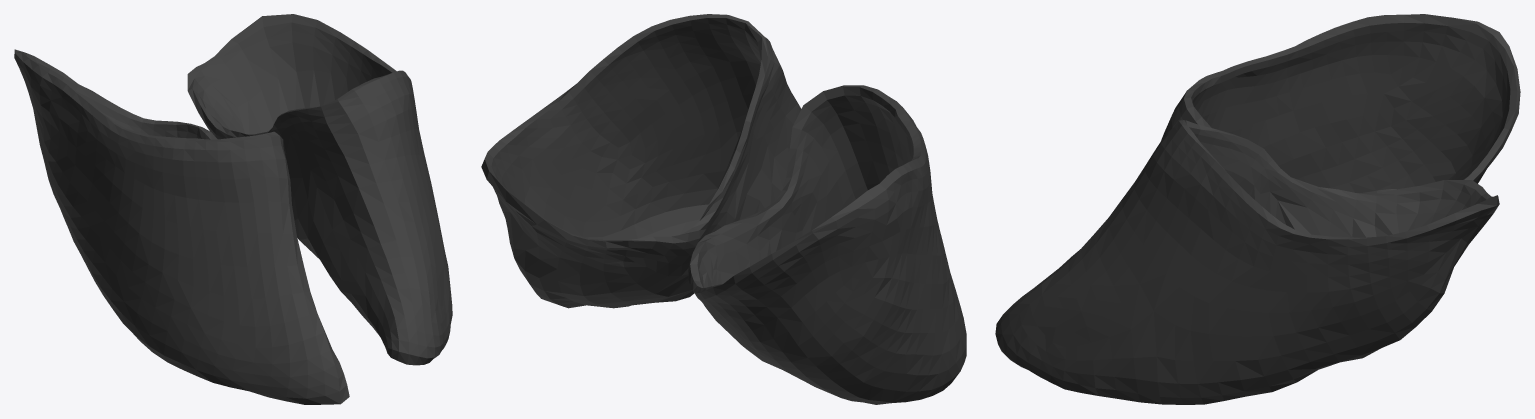
File: Hooves.glb
3 views of the same model, side by side, from view 1: azimuth 30°, elevation 25°; view 2: azimuth 150°, elevation 25°; view 3: azimuth 270°, elevation 25° (orthographic). The views are drawn at different scales.
Parts seen in each view (by area): view 1: Hooves; view 2: Hooves; view 3: Hooves.
Boxes of the visible parts, x1,y1,x2,y2 form: Hooves: [14, 14, 452, 404]; Hooves: [481, 14, 966, 404]; Hooves: [995, 14, 1520, 404].
Size of the model in its own units: 0.168 by 0.1273 by 0.2138.
1 material, 1 textured.
